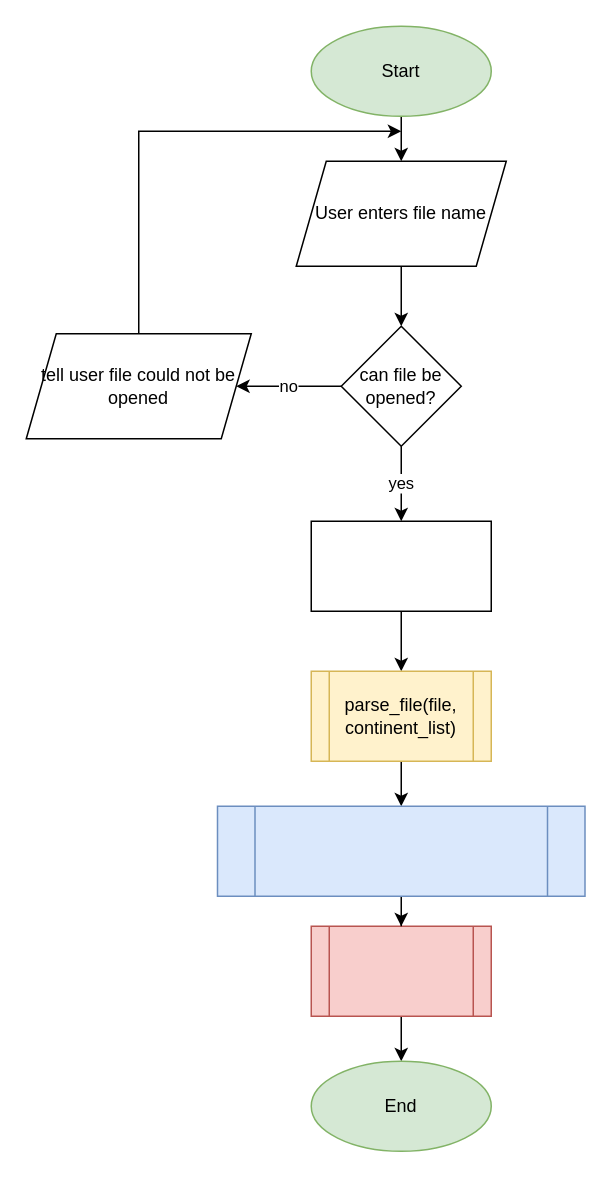
Some shapes in this 612 by 1178 pixel diagram are drawn without their labels. Here are the shapes that lost their labels. From the top down, the box of each, then its label:
(310, 520, 491, 611): create list to store continent objects
(216, 805, 585, 896): sort_continent_values(continent_list)
(310, 925, 491, 1016): print_data()
